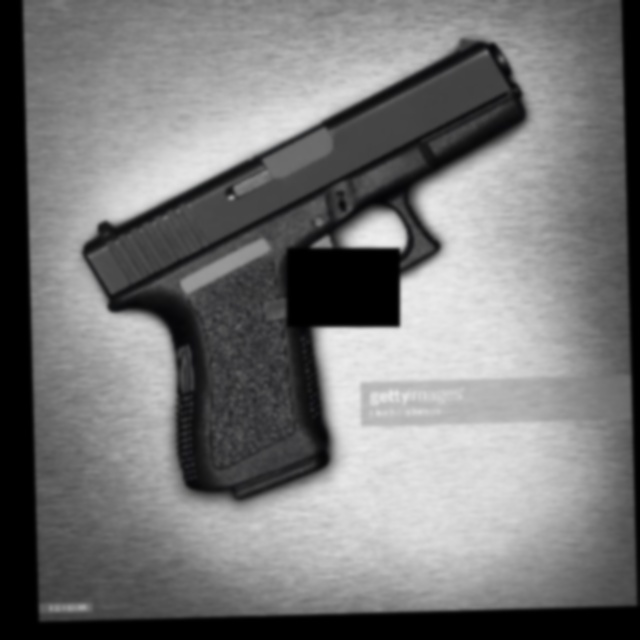gun: (70, 33, 537, 500)
